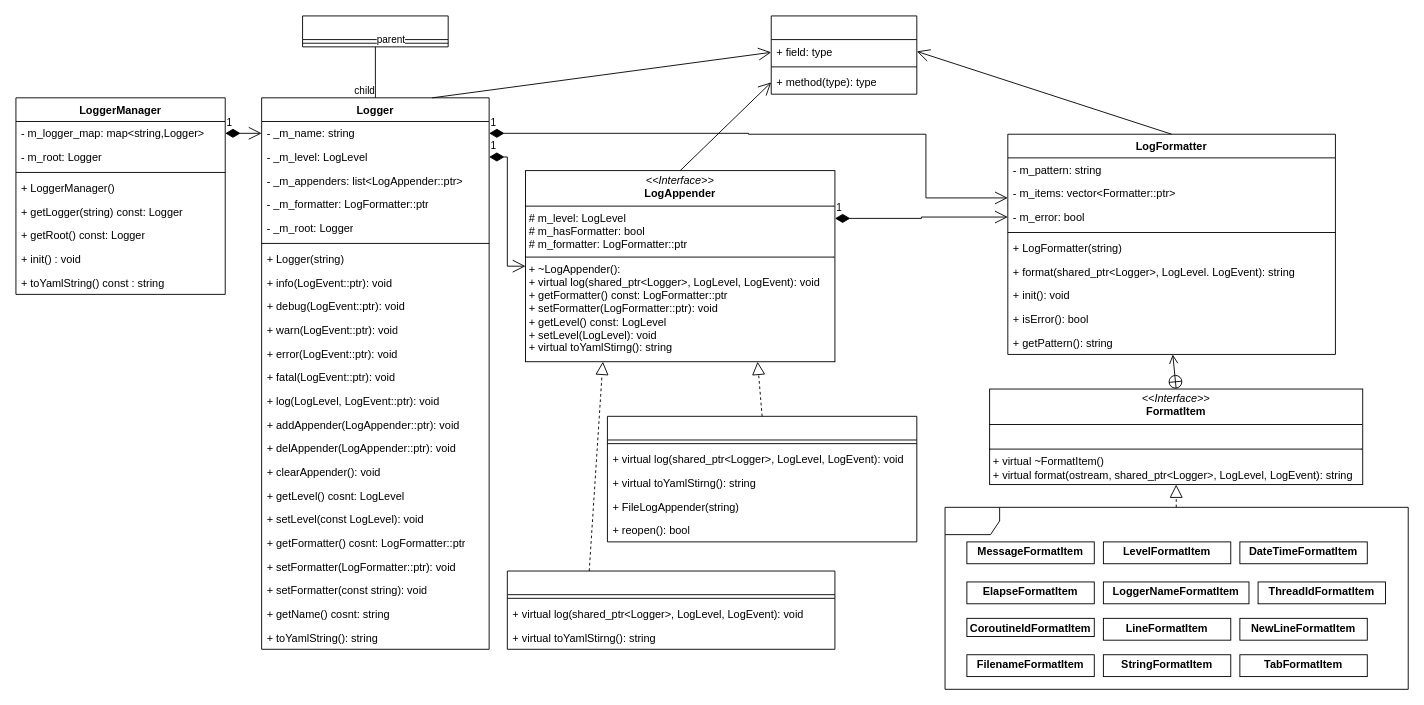
Image size: 1424x705. Some labels were removed from this diagram. Each missing label, with the box of its shape:
enable_shared_from_this: (302, 15, 448, 47)
FileLogAppender: (506, 570, 835, 649)
frame: (944, 506, 1408, 689)
LogEvent: (770, 15, 917, 94)
SoutLogAppender: (607, 415, 917, 542)
